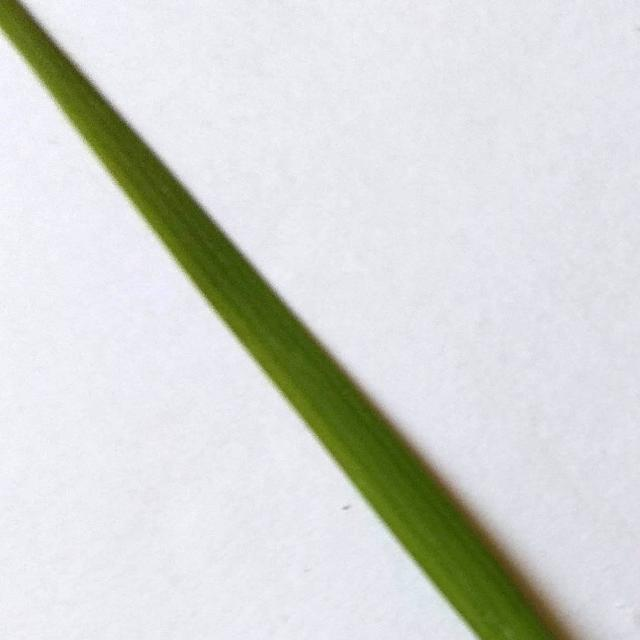Rice_Healthy: (0, 0, 573, 640)
